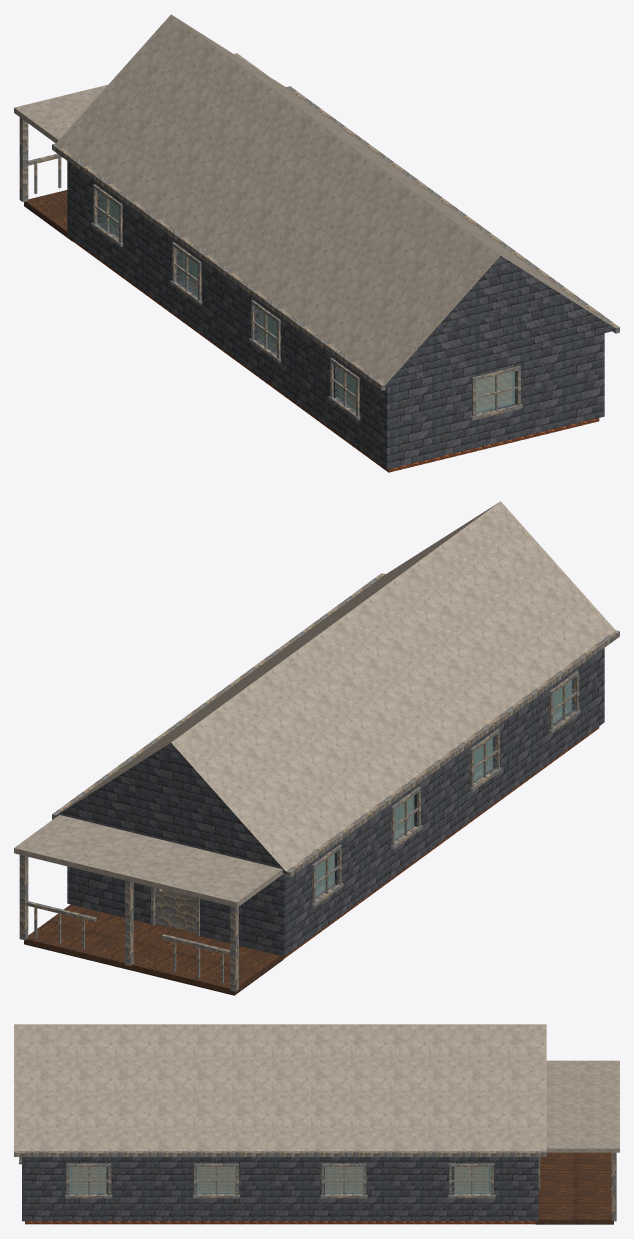
The model's file is cypress-shotgun.gltf.
The picture shows the model from 3 angles, top to bottom: view 1: azimuth 30°, elevation 25°; view 2: azimuth 150°, elevation 25°; view 3: azimuth 270°, elevation 25°; orthographic projection. The views are drawn at different scales.
Visible parts, largest first — view 1: roof-L0-blue-metal, exterior-L0-sage-siding, roof-L0-sage-siding, roof-L0-dark-wood, trim-L0-dark-wood, glazing-L0-glass, floor-L0-floor, porch-L0-blue-metal, porch-L0-stone, porch-L0-dark-wood; view 2: roof-L0-blue-metal, exterior-L0-sage-siding, porch-L0-blue-metal, roof-L0-sage-siding, porch-L0-stone, roof-L0-dark-wood, trim-L0-dark-wood, porch-L0-dark-wood, glazing-L0-glass, door-leaf-L0-dark-wood, floor-L0-floor; view 3: roof-L0-blue-metal, exterior-L0-sage-siding, porch-L0-blue-metal, porch-L0-stone, floor-L0-floor, glazing-L0-glass, trim-L0-dark-wood, roof-L0-dark-wood, porch-L0-dark-wood.
Part boxes in pixels (bbox=[...]): roof-L0-blue-metal: bbox=[56, 14, 614, 384]; exterior-L0-sage-siding: bbox=[67, 161, 604, 469]; roof-L0-sage-siding: bbox=[384, 256, 615, 386]; roof-L0-dark-wood: bbox=[52, 86, 619, 390]; trim-L0-dark-wood: bbox=[91, 184, 522, 420]; glazing-L0-glass: bbox=[99, 193, 515, 412]; floor-L0-floor: bbox=[72, 227, 599, 472]; porch-L0-blue-metal: bbox=[14, 53, 267, 143]; porch-L0-stone: bbox=[24, 190, 72, 241]; porch-L0-dark-wood: bbox=[19, 117, 61, 201]; roof-L0-blue-metal: bbox=[59, 501, 615, 871]; exterior-L0-sage-siding: bbox=[67, 648, 604, 956]; porch-L0-blue-metal: bbox=[14, 815, 283, 907]; roof-L0-sage-siding: bbox=[54, 743, 287, 873]; porch-L0-stone: bbox=[24, 904, 283, 995]; roof-L0-dark-wood: bbox=[52, 573, 619, 877]; trim-L0-dark-wood: bbox=[151, 671, 580, 936]; porch-L0-dark-wood: bbox=[19, 855, 238, 991]; glazing-L0-glass: bbox=[315, 680, 572, 897]; door-leaf-L0-dark-wood: bbox=[157, 888, 195, 933]; floor-L0-floor: bbox=[283, 714, 599, 959]; roof-L0-blue-metal: bbox=[14, 1024, 546, 1150]; exterior-L0-sage-siding: bbox=[22, 1157, 538, 1221]; porch-L0-blue-metal: bbox=[546, 1060, 619, 1152]; porch-L0-stone: bbox=[535, 1152, 613, 1224]; floor-L0-floor: bbox=[25, 1167, 535, 1224]; glazing-L0-glass: bbox=[69, 1167, 491, 1193]; trim-L0-dark-wood: bbox=[19, 1157, 540, 1198]; roof-L0-dark-wood: bbox=[14, 1151, 546, 1156]; porch-L0-dark-wood: bbox=[611, 1152, 616, 1221].
Size of the model in its own units: 5.66 by 4.47 by 15.43.
8 materials, 7 textured.
